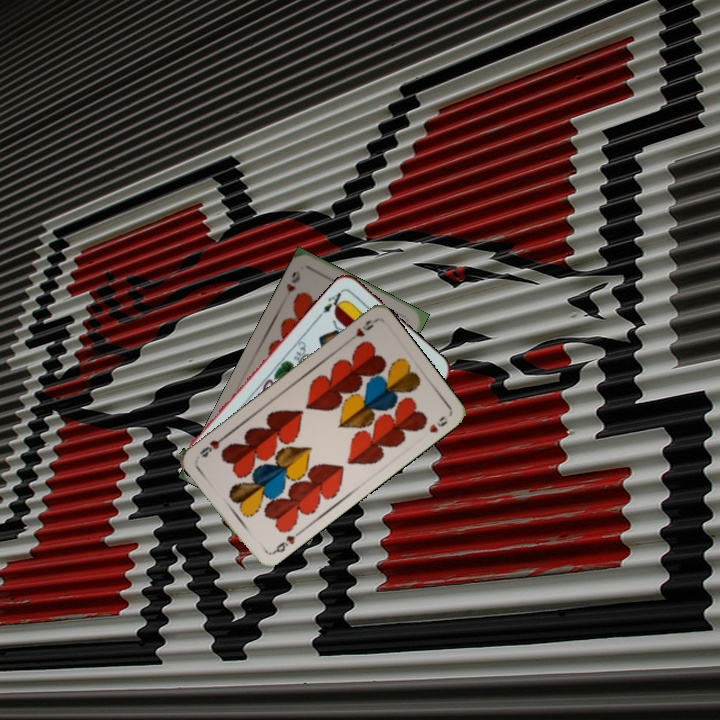EA: (315, 286, 348, 319)
H9: (343, 316, 378, 345), (268, 528, 303, 557), (282, 266, 303, 295)
